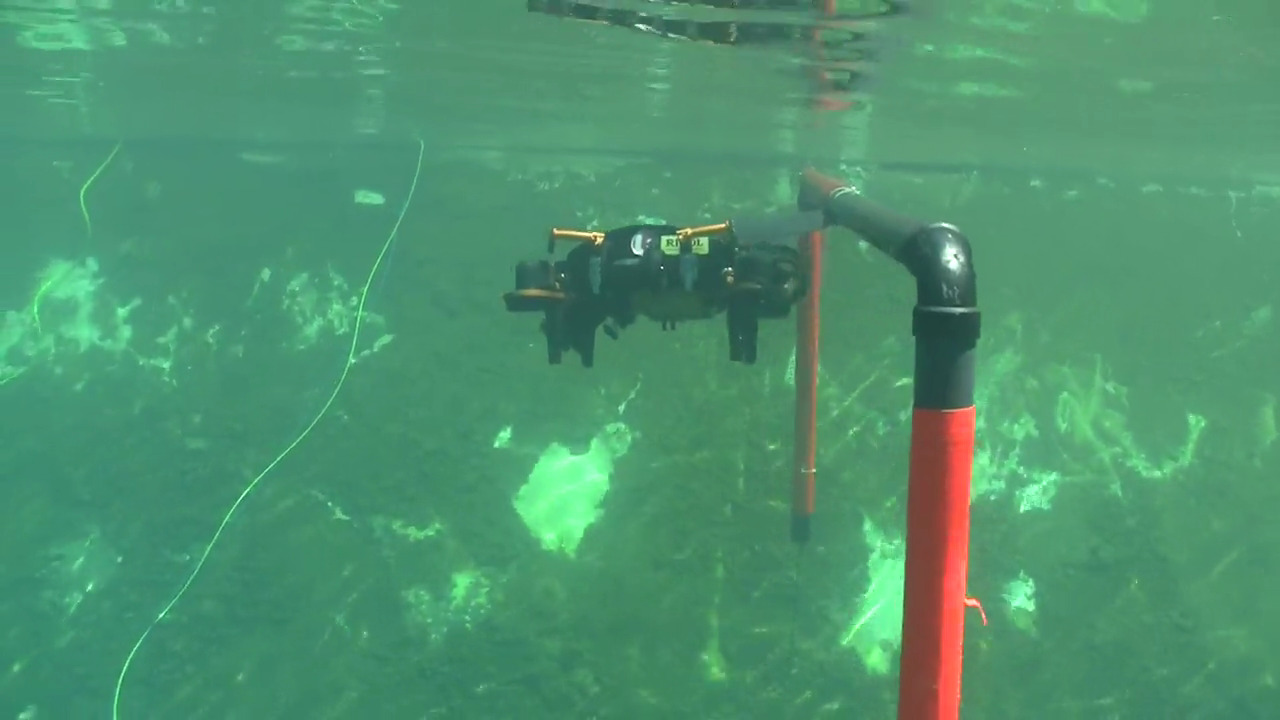gate: (766, 160, 1006, 720)
